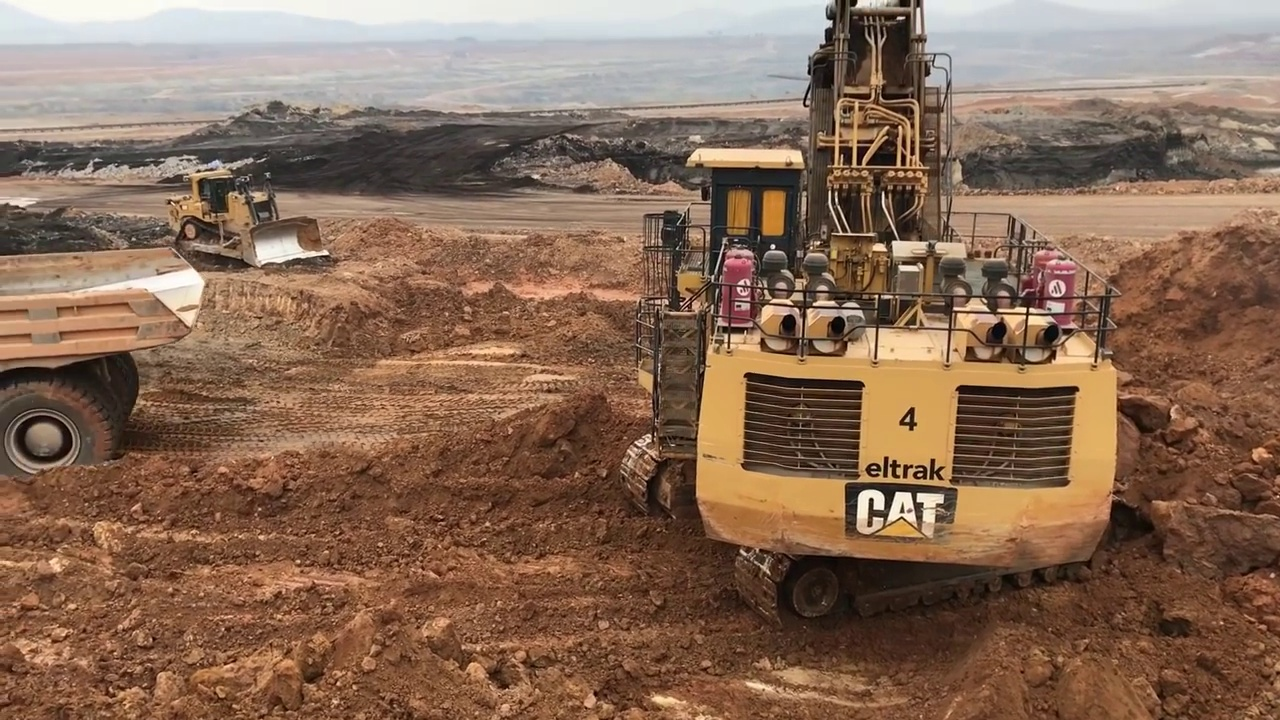bulldozer: (174, 170, 332, 277)
dumper: (3, 246, 205, 467)
excavator: (621, 1, 1119, 622)
